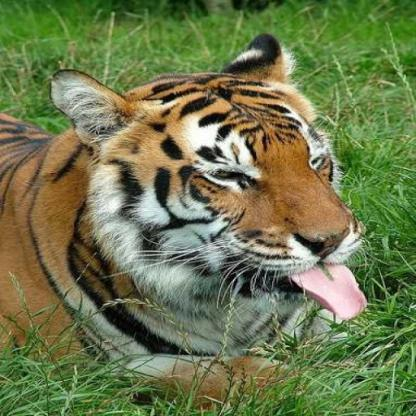Tiger: (0, 33, 376, 406)
